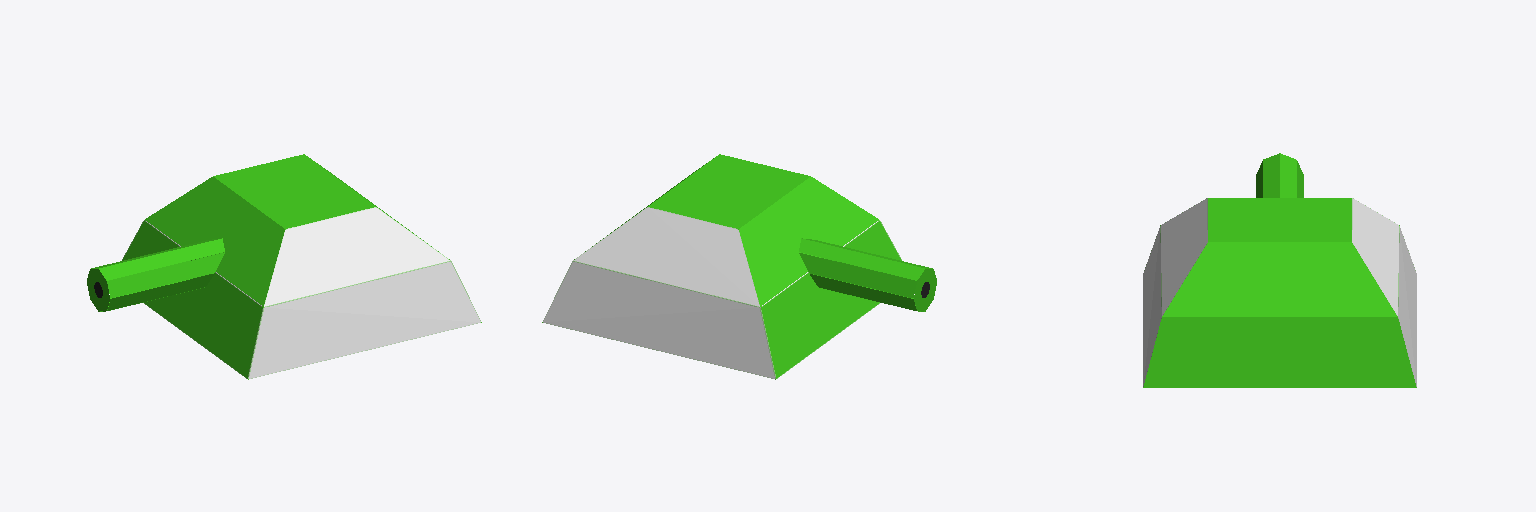
3 views of the same model, side by side, from view 1: azimuth 30°, elevation 25°; view 2: azimuth 150°, elevation 25°; view 3: azimuth 270°, elevation 25° (orthographic).
Parts seen in each view (by area): view 1: 立方体.002_立方体.001; view 2: 立方体.002_立方体.001; view 3: 立方体.002_立方体.001.
Part boxes in pixels (x1,y1,x2,y2): 立方体.002_立方体.001: (87,154,481,379); 立方体.002_立方体.001: (542,154,936,379); 立方体.002_立方体.001: (1143,153,1416,387).
Size of the model in its own units: 1.4 by 0.4682 by 1.06.
1 materials, 1 textured.